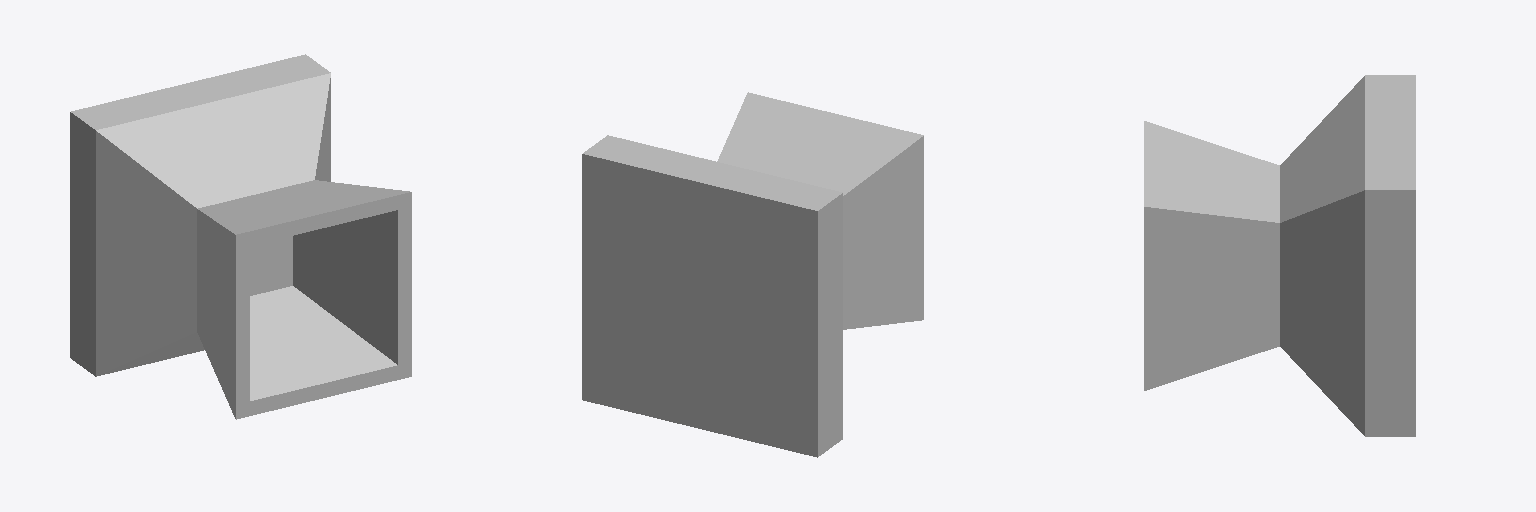
File: thruster.obj
3 views of the same model, side by side, from view 1: azimuth 30°, elevation 25°; view 2: azimuth 150°, elevation 25°; view 3: azimuth 270°, elevation 25° (orthographic).
Parts seen in each view (by area): view 1: cuboid; view 2: cuboid; view 3: cuboid.
Part boxes in pixels (x1,y1,x2,y2): cuboid: (70,54,411,419); cuboid: (582,92,923,457); cuboid: (1144,75,1415,436).
Bounding box in the file's own units: 1 × 1 × 1.